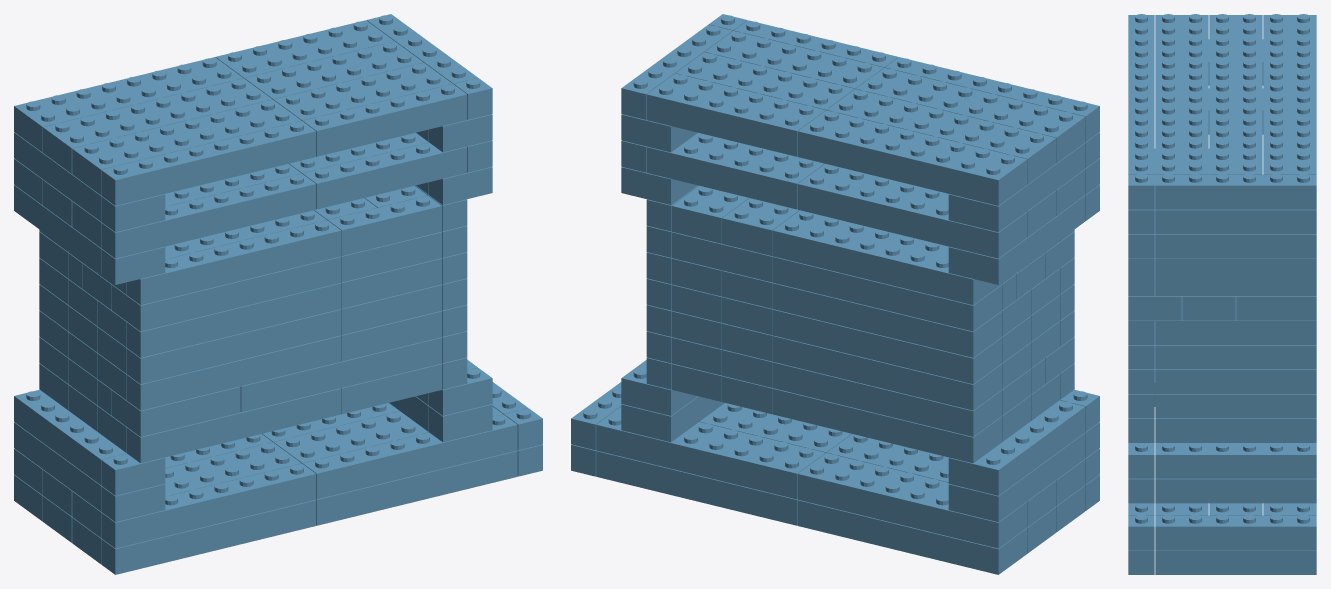
File: 062_bookshelf_L2.glb
The picture shows the model from 3 angles, left to right: view 1: azimuth 30°, elevation 25°; view 2: azimuth 150°, elevation 25°; view 3: azimuth 270°, elevation 25°; orthographic projection. The views are drawn at different scales.
Size of the model in its own units: 16.98 by 15.13 by 6.98.
